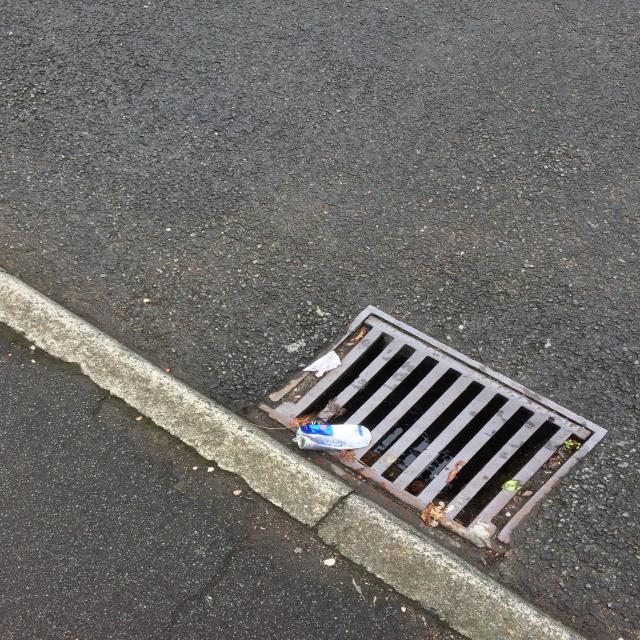Drink can: (292, 424, 371, 450)
Pop tab: (292, 436, 303, 442)
Unlabeled litter: (302, 351, 341, 377)
